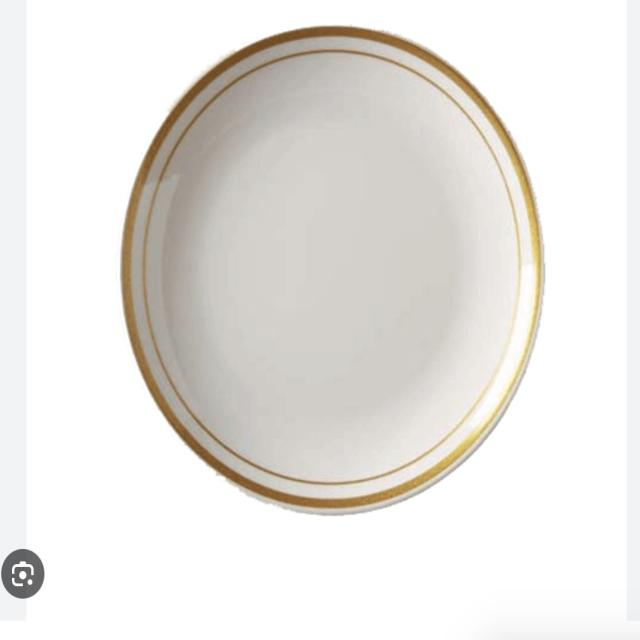recyclable: (108, 14, 557, 510)
